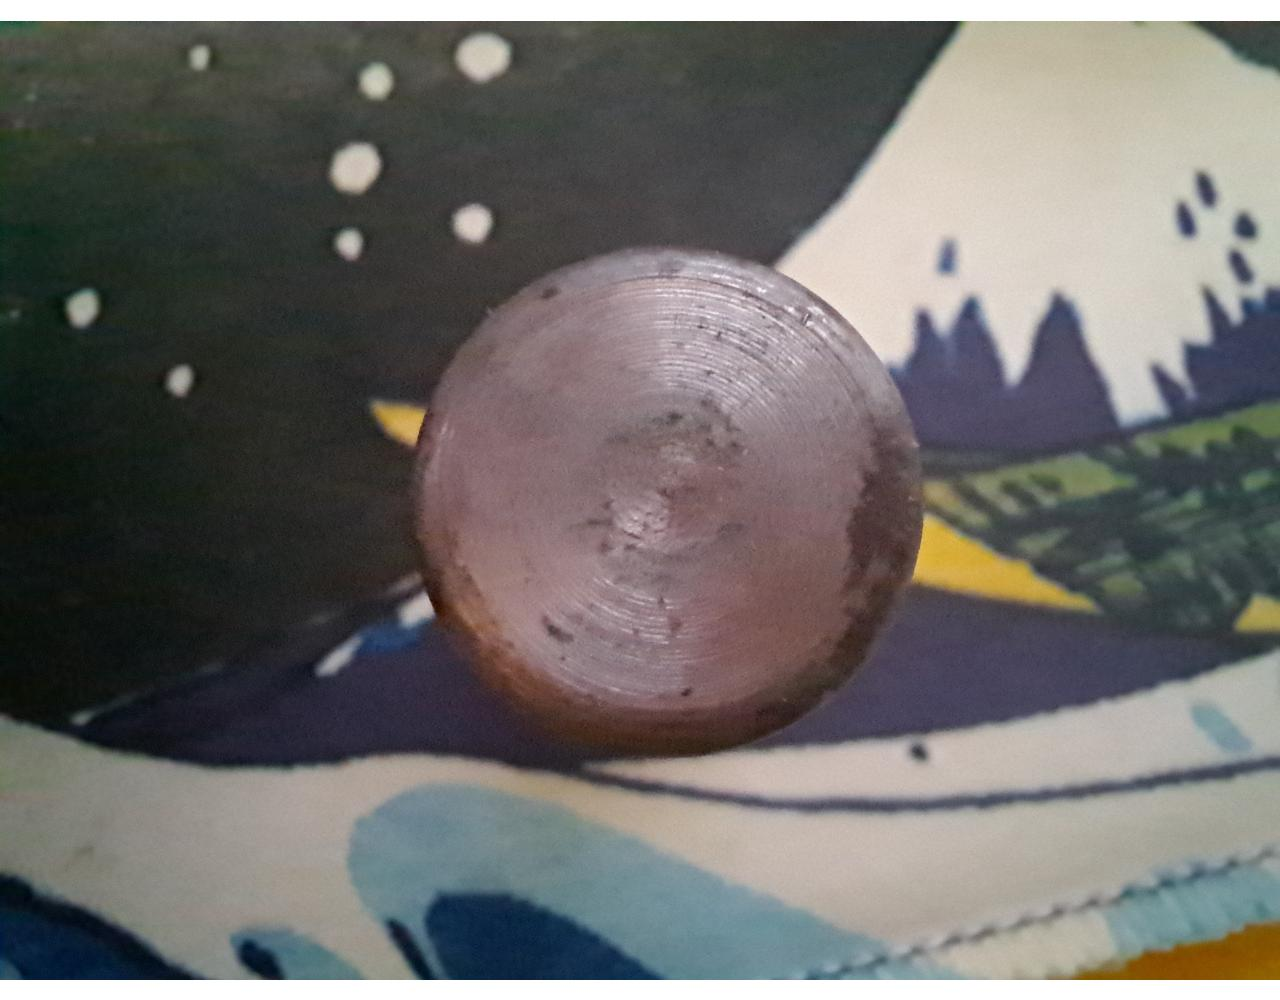planson: (408, 239, 923, 749)
